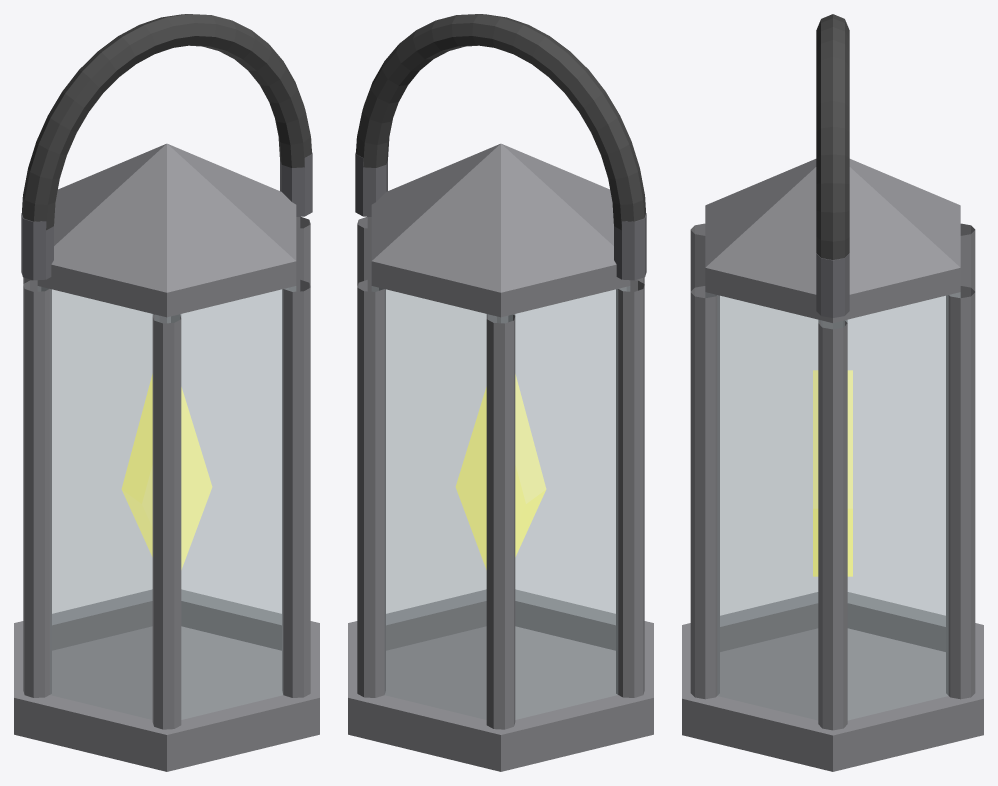
File: Lantern.fbx
The picture shows the model from 3 angles, left to right: view 1: azimuth 30°, elevation 25°; view 2: azimuth 150°, elevation 25°; view 3: azimuth 270°, elevation 25°; orthographic projection.
Parts seen in each view (by area): view 1: Glass, Base, TopCap, Handle, Strut4, Strut5, Strut3, Flame, ConnL, ConnR, Strut0; view 2: Glass, Base, TopCap, Handle, Strut2, Strut1, Strut3, Flame, ConnL, ConnR, Strut0; view 3: Glass, Base, TopCap, Strut0, Strut1, Strut5, Handle, Flame, ConnR, Strut2, Strut4.
Part boxes in pixels (left/top/right/bottom): Glass: left=38, top=286, right=295, bottom=719; Base: left=14, top=589, right=319, bottom=771; TopCap: left=37, top=143, right=296, bottom=317; Handle: left=22, top=14, right=311, bottom=230; Strut4: left=152, top=314, right=181, bottom=729; Strut5: left=282, top=279, right=310, bottom=697; Strut3: left=23, top=280, right=51, bottom=697; Flame: left=121, top=374, right=212, bottom=569; ConnL: left=21, top=213, right=53, bottom=280; ConnR: left=280, top=152, right=312, bottom=216; Strut0: left=296, top=217, right=310, bottom=285; Glass: left=372, top=286, right=629, bottom=719; Base: left=348, top=589, right=653, bottom=771; TopCap: left=371, top=143, right=630, bottom=317; Handle: left=356, top=14, right=645, bottom=230; Strut2: left=486, top=314, right=515, bottom=729; Strut1: left=357, top=279, right=385, bottom=697; Strut3: left=616, top=280, right=644, bottom=697; Flame: left=455, top=374, right=546, bottom=569; ConnL: left=614, top=213, right=646, bottom=280; ConnR: left=355, top=152, right=387, bottom=216; Strut0: left=357, top=217, right=371, bottom=285; Glass: left=705, top=292, right=960, bottom=719; Base: left=682, top=592, right=983, bottom=771; TopCap: left=705, top=159, right=960, bottom=322; Strut0: left=818, top=320, right=847, bottom=730; Strut1: left=946, top=286, right=975, bottom=699; Strut5: left=690, top=286, right=719, bottom=699; Handle: left=816, top=14, right=849, bottom=259; Flame: left=813, top=370, right=852, bottom=576; ConnR: left=816, top=253, right=849, bottom=317; Strut2: left=960, top=223, right=975, bottom=291; Strut4: left=690, top=223, right=705, bottom=291.
Size of the model in its own units: 52 by 111 by 45.03.
